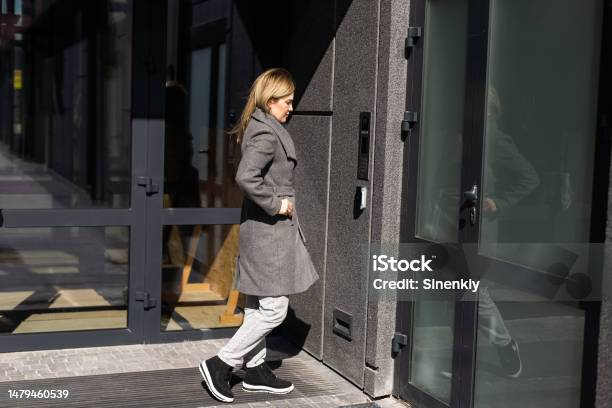person: (198, 65, 319, 396)
